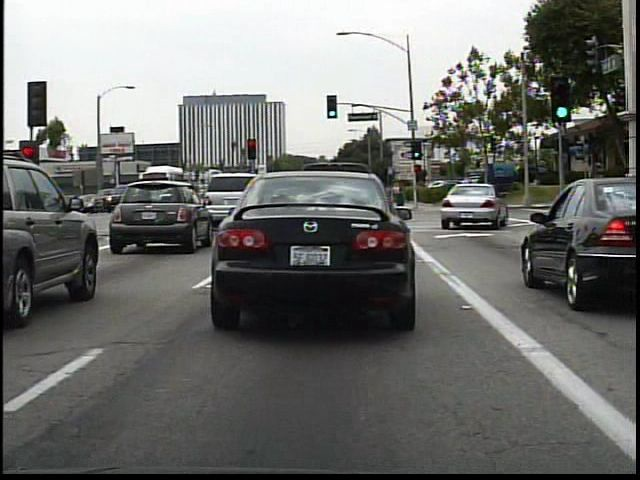person: (387, 177, 407, 211)
